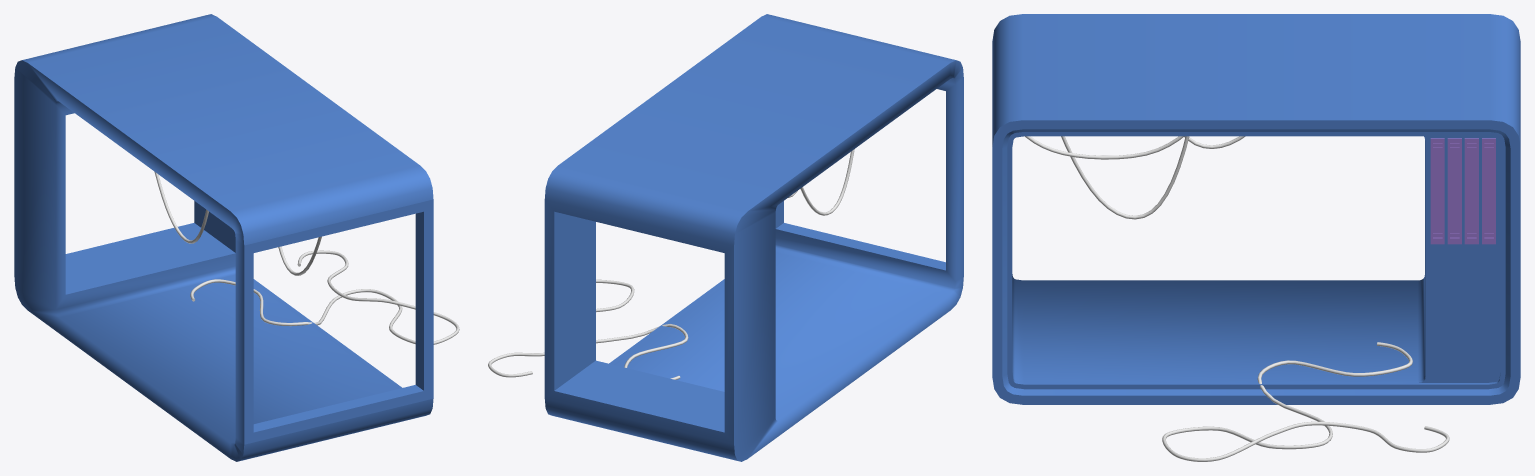
3 views of the same model, side by side, from view 1: azimuth 30°, elevation 25°; view 2: azimuth 150°, elevation 25°; view 3: azimuth 270°, elevation 25° (orthographic). The views are drawn at different scales.
Parts seen in each view (by area): view 1: tv open, kabl, Line005; view 2: tv open, kabl; view 3: tv open, Box010, kabl, Line003, Line004.
Boxes of the visible parts, x1=… form: tv open: x1=14, y1=14, x2=433, y2=461; kabl: x1=190, y1=250, x2=459, y2=344; Line005: x1=154, y1=171, x2=208, y2=243; tv open: x1=544, y1=14, x2=963, y2=461; kabl: x1=488, y1=279, x2=688, y2=379; tv open: x1=992, y1=14, x2=1520, y2=404; Box010: x1=1430, y1=138, x2=1495, y2=244; kabl: x1=1162, y1=342, x2=1449, y2=461; Line003: x1=1061, y1=136, x2=1189, y2=219; Line004: x1=1025, y1=136, x2=1183, y2=159.
Size of the model in its own units: 31.89 by 25 by 42.05.
